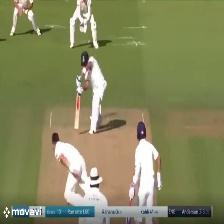batsman: (73, 50, 111, 134)
